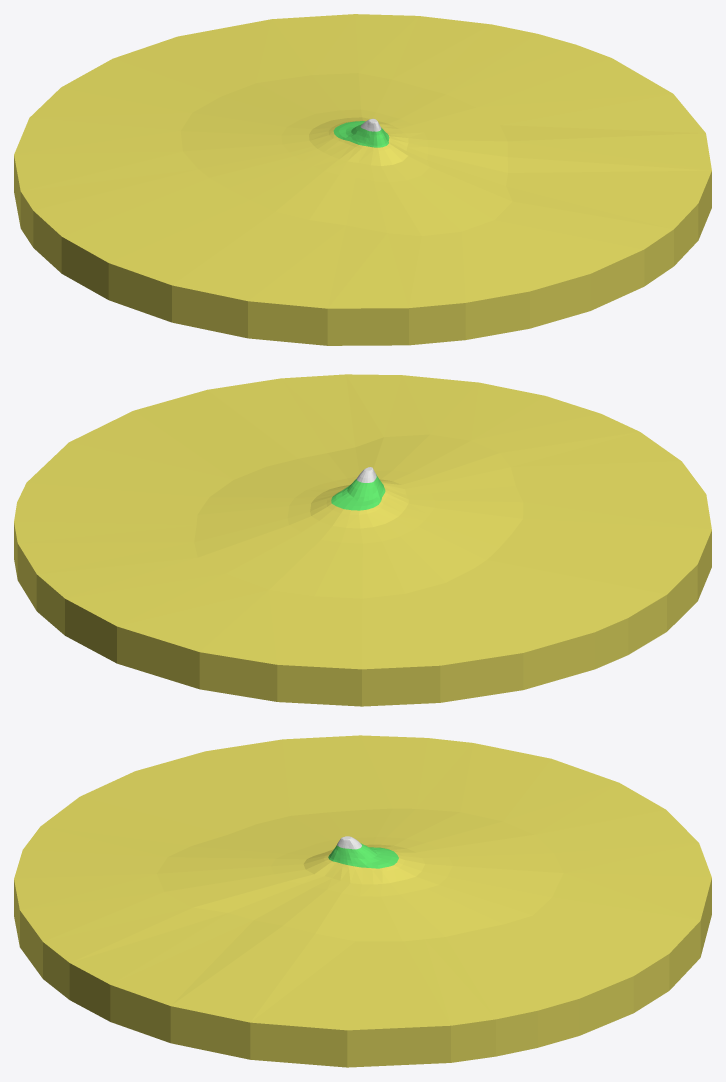
File: IslandTris_2020_04_06.fbx
3 views of the same model, one above another, from view 1: azimuth 30°, elevation 25°; view 2: azimuth 150°, elevation 25°; view 3: azimuth 270°, elevation 25° (orthographic).
Parts seen in each view (by area): view 1: Island_Tris; view 2: Island_Tris; view 3: Island_Tris.
Boxes of the visible parts, x1=… form: Island_Tris: x1=14, y1=14, x2=711, y2=345; Island_Tris: x1=14, y1=374, x2=711, y2=706; Island_Tris: x1=14, y1=735, x2=711, y2=1067.
Size of the model in its own units: 21040 by 2779 by 21041.
